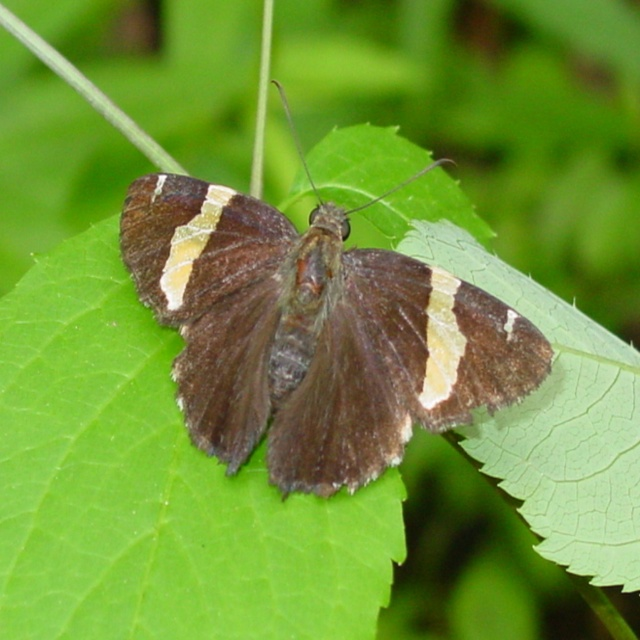Butterfly: (124, 94, 541, 518)
